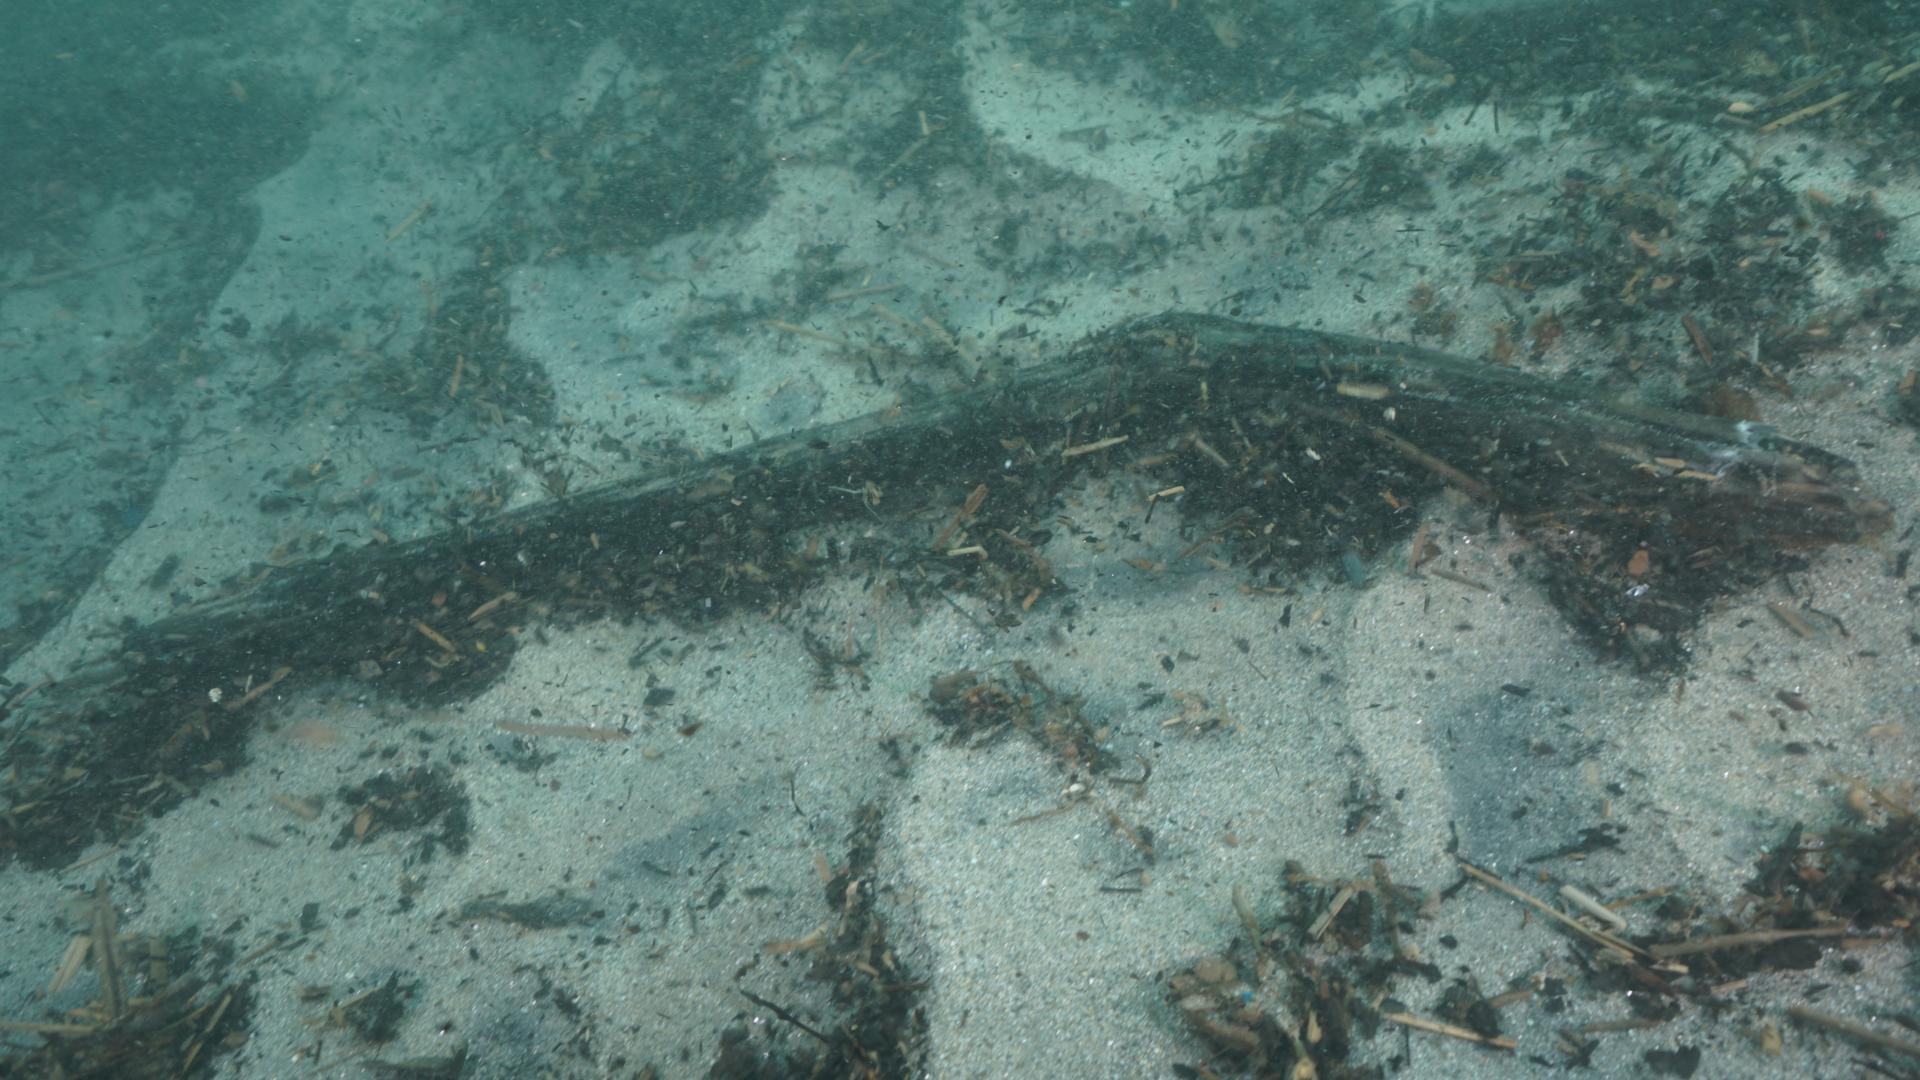wood: (117, 305, 1849, 655)
